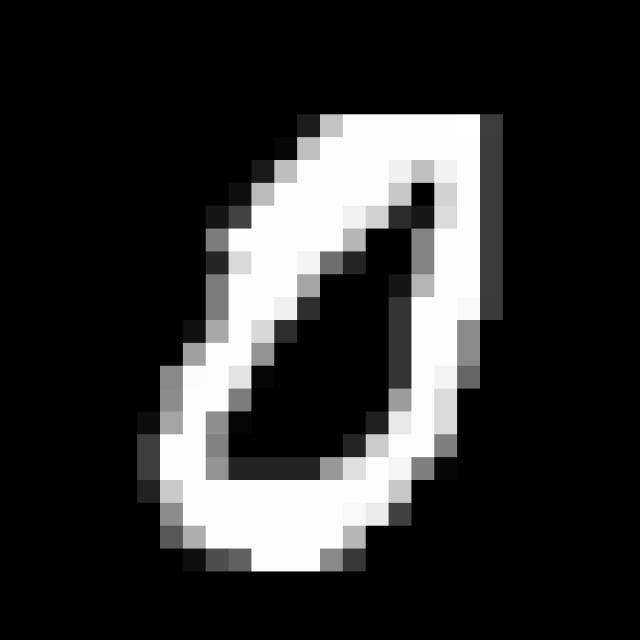zero -0-: (126, 80, 512, 599)
